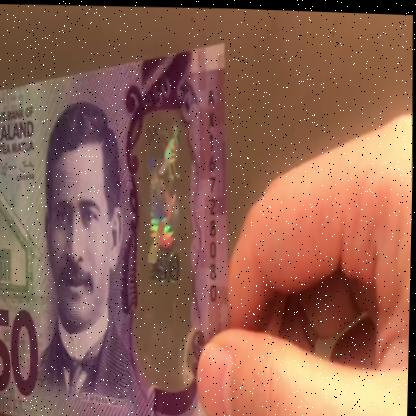50F: (135, 115, 193, 359)
